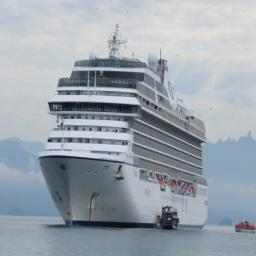cruises: (35, 23, 213, 234)
